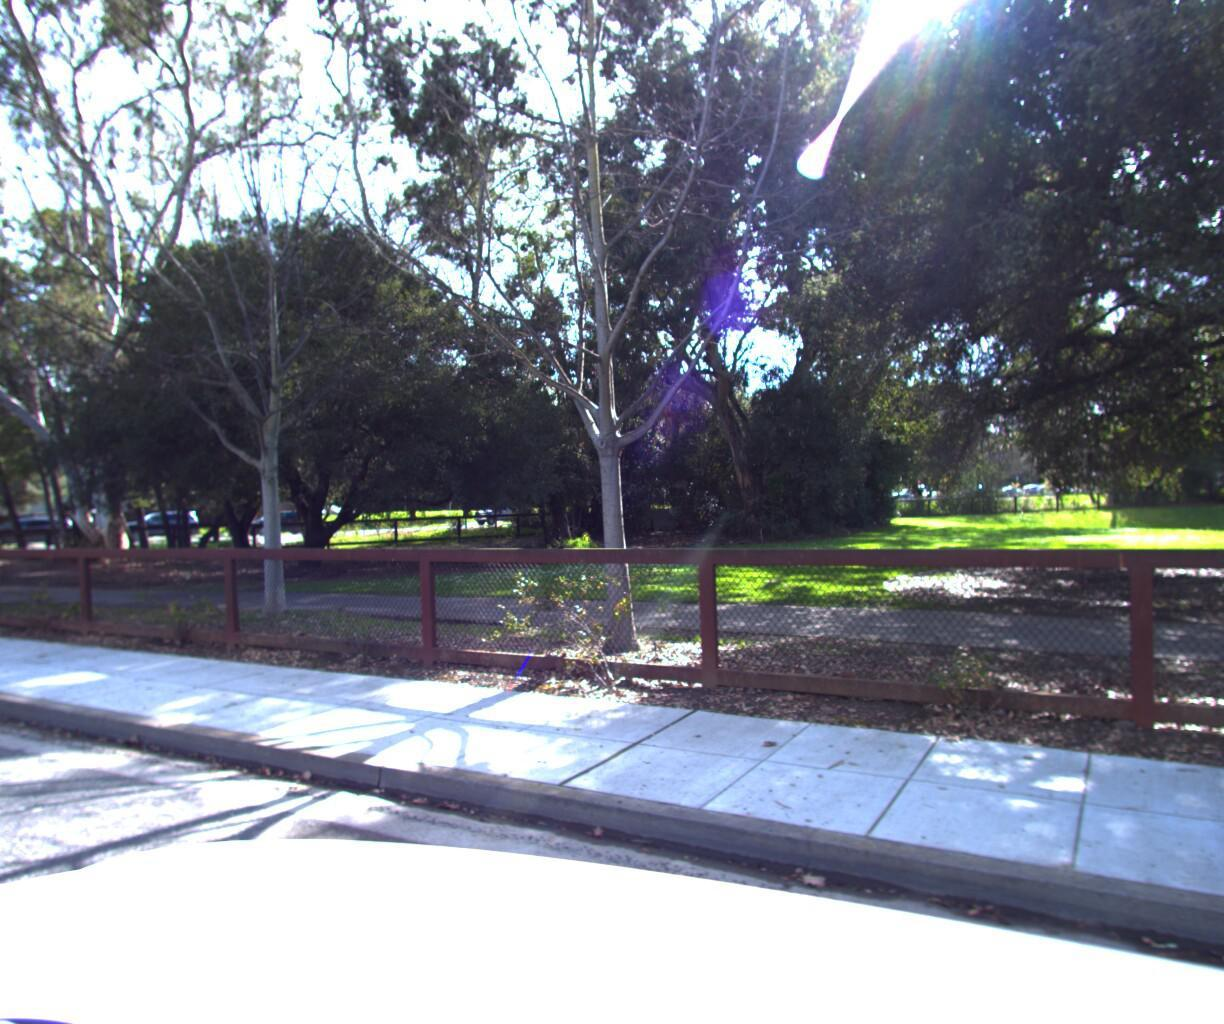car: (111, 507, 205, 542), (0, 513, 82, 548)
